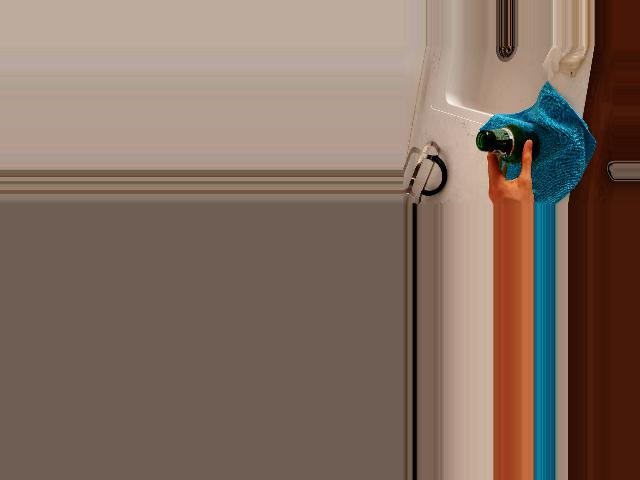beer: (477, 125, 541, 161)
